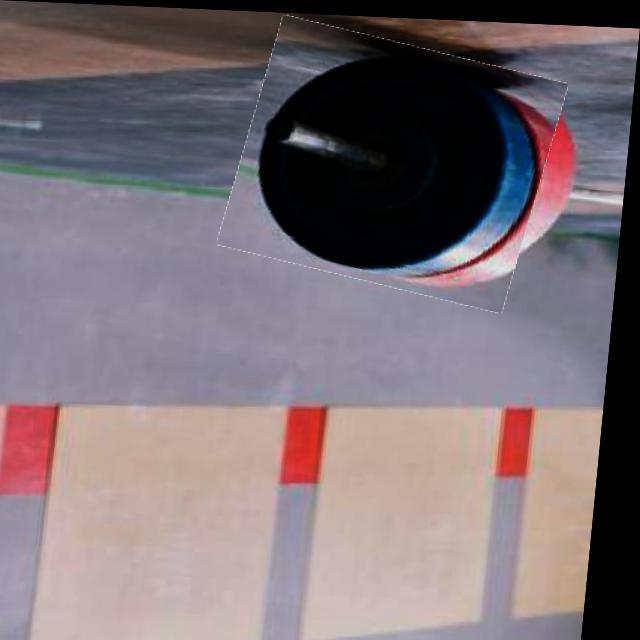barbell: (228, 24, 564, 298)
